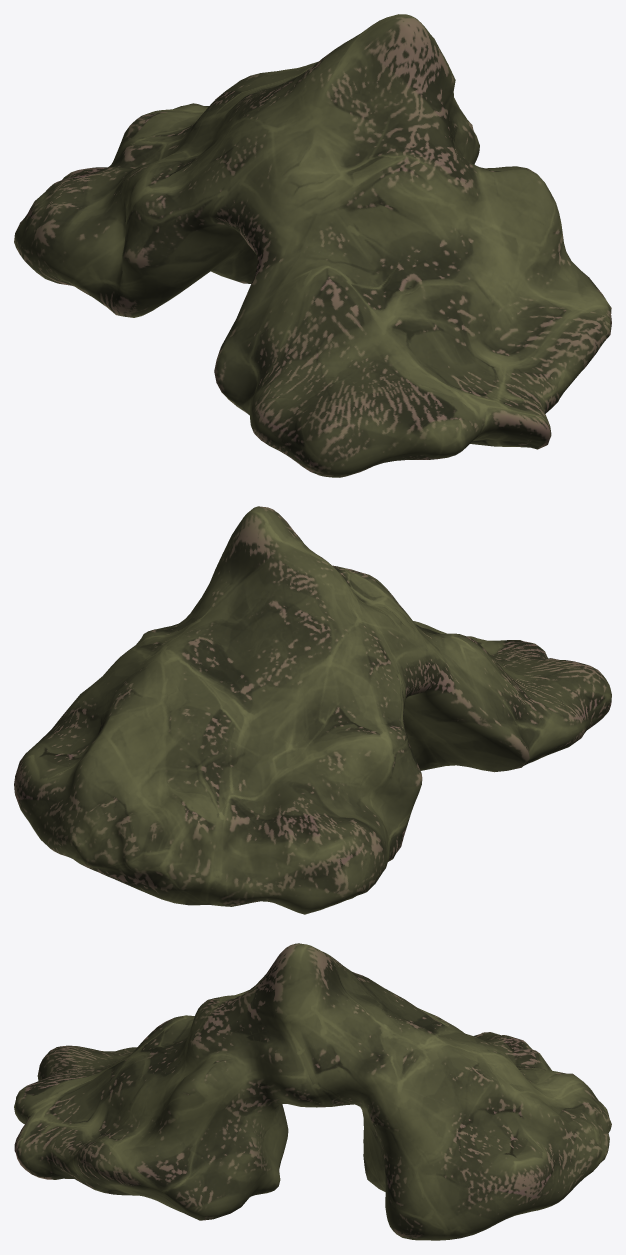
File: rock_tunnel.fbx
3 views of the same model, one above another, from view 1: azimuth 30°, elevation 25°; view 2: azimuth 150°, elevation 25°; view 3: azimuth 270°, elevation 25° (orthographic). The views are drawn at different scales.
Parts seen in each view (by area): view 1: Volume10; view 2: Volume10; view 3: Volume10.
Boxes of the visible parts, left/top/right/bottom form: Volume10: left=14, top=14, right=611, bottom=477; Volume10: left=14, top=506, right=611, bottom=914; Volume10: left=14, top=943, right=611, bottom=1240.
Bounding box in the file's own units: 377 × 271 × 586.
